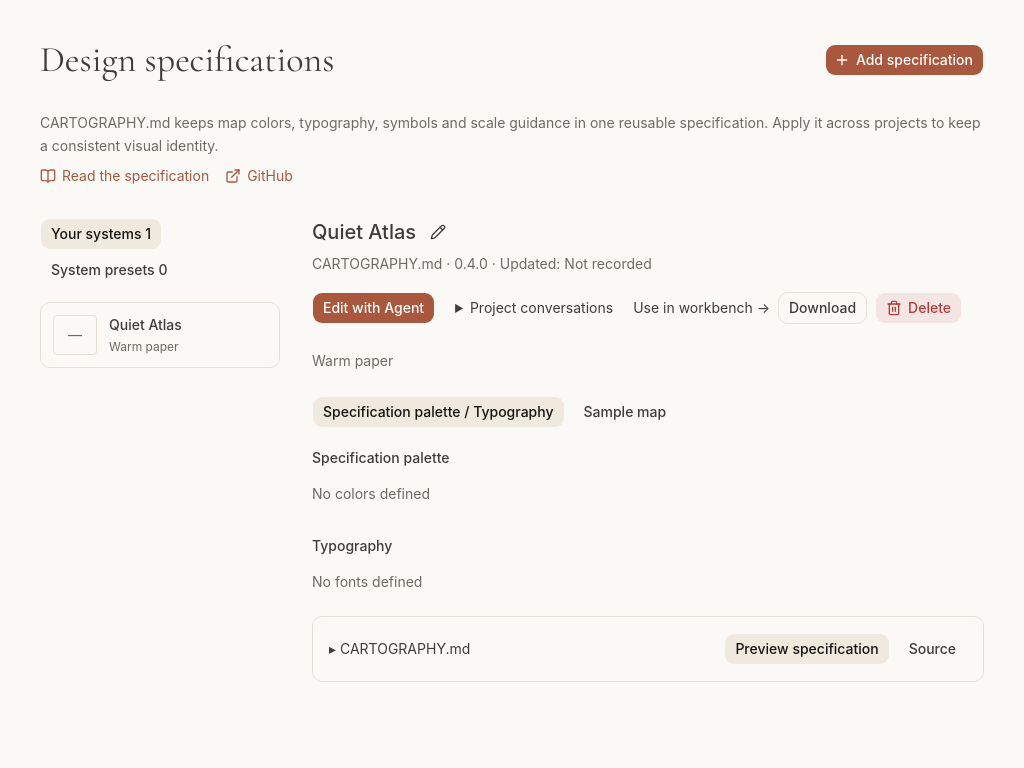
Test case: explains project references and clears the selected deep link after deletion
Click the button "Preview specification". click: point(807, 649)
box: [724, 633, 890, 665]
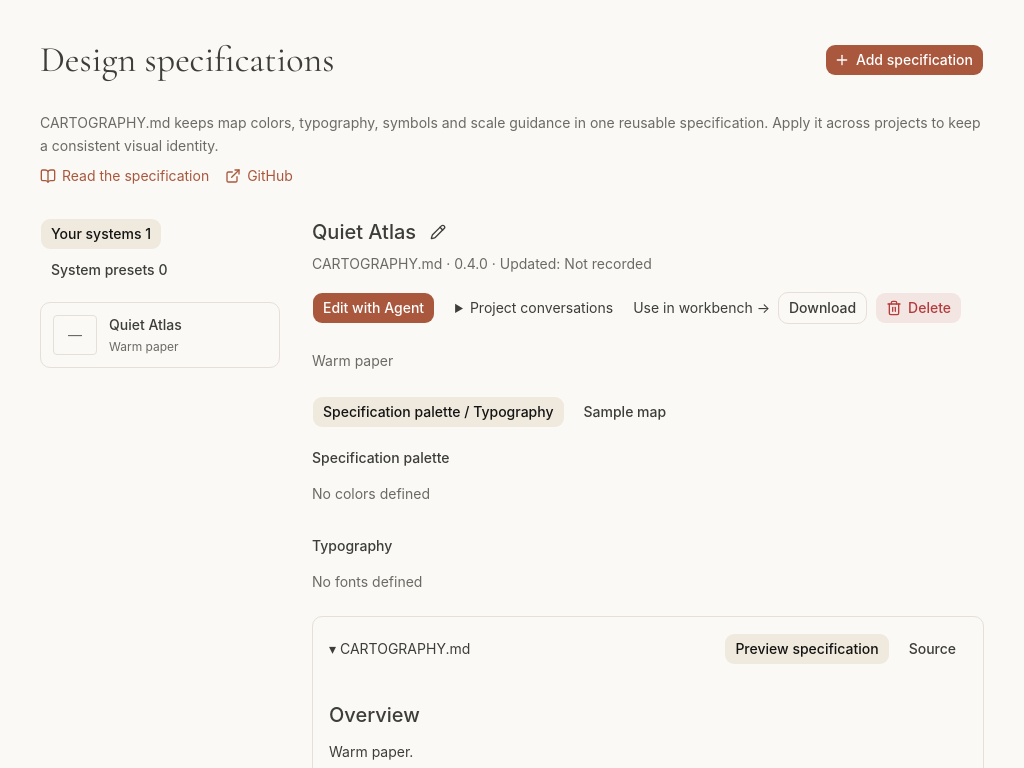
expect the element named "Preview specification" is shown: met, box [329, 703, 420, 760]
Click the button with aria-label "Delete: Quiet Atlas". click: point(919, 308)
box: [875, 292, 962, 324]
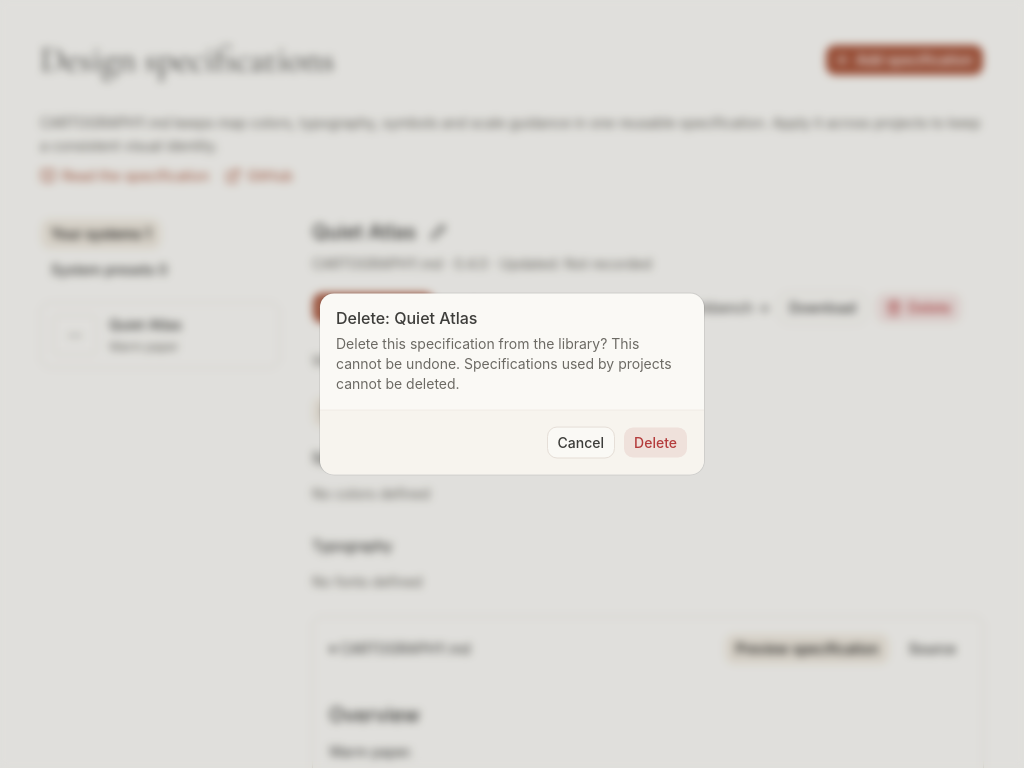
Click the button "Delete". click: point(656, 442)
box: [623, 426, 688, 458]
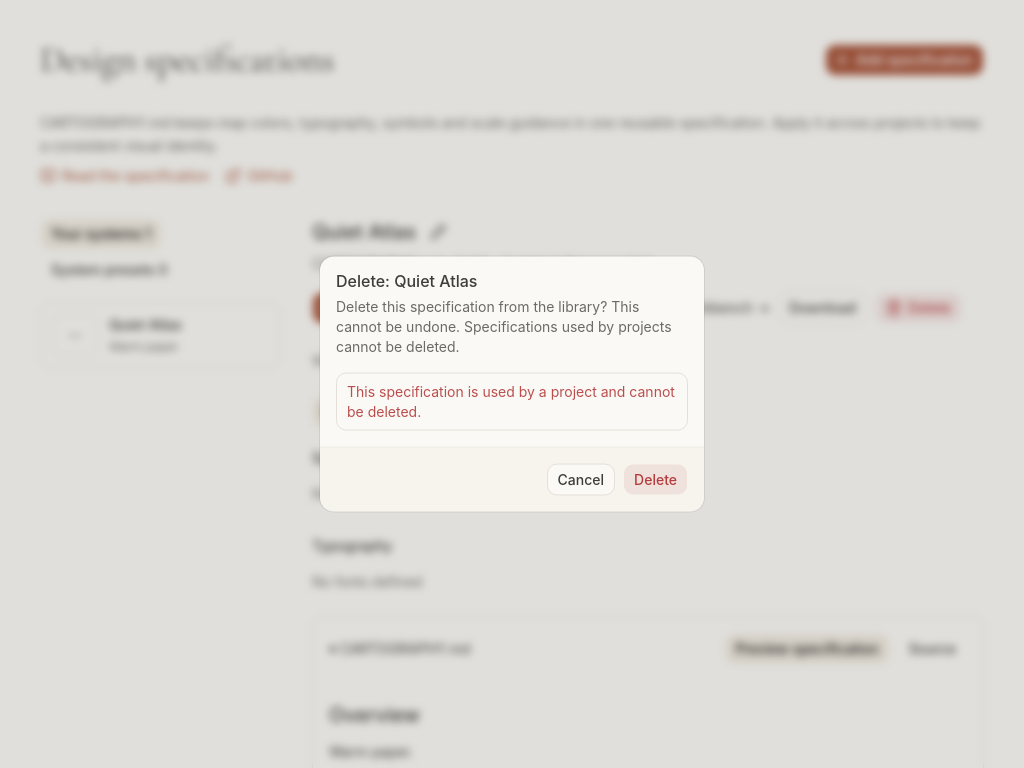
expect the message reads "This specification is used by a project and cannot be deleted.": met, box [347, 382, 675, 420]
Click the button "Delete". click: point(656, 480)
box: [623, 464, 688, 496]
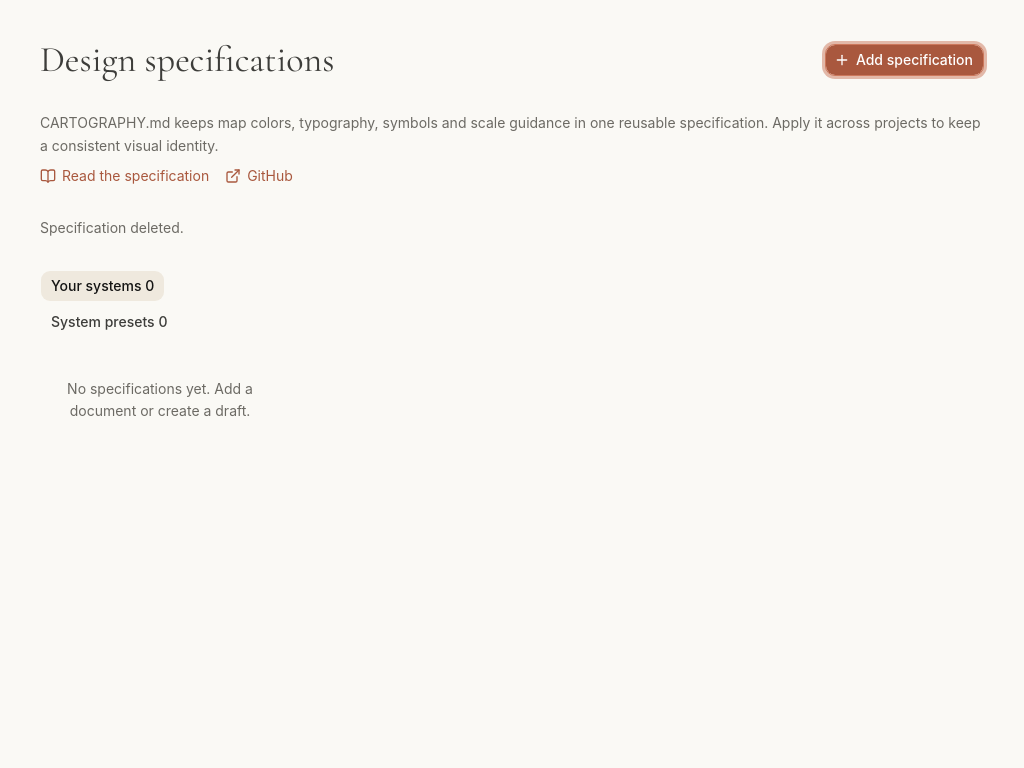
expect the message reads "Specification deleted.": met, box [40, 218, 184, 236]
expect the button labelled "Preview specification" is gone: met
